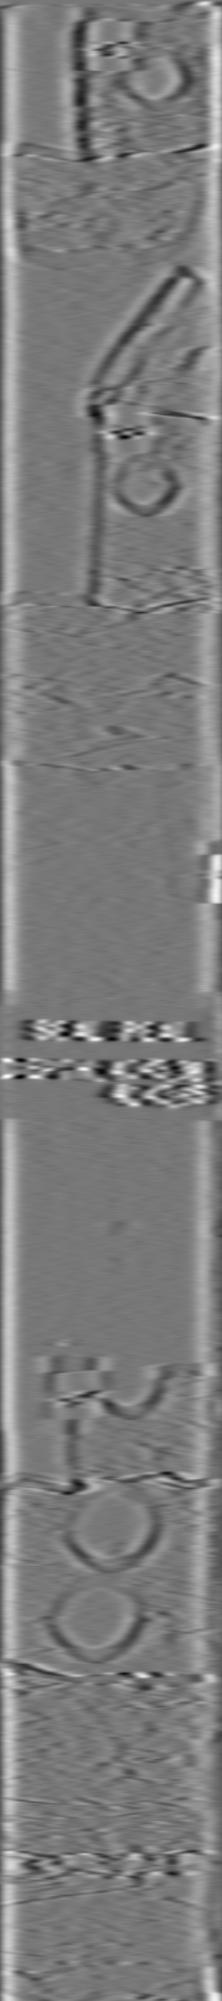hplug: (116, 42, 193, 115), (108, 452, 179, 517), (97, 1377, 167, 1423)
scal: (61, 1485, 161, 1577), (43, 1577, 145, 1665)
vplug: (26, 401, 106, 616), (17, 17, 93, 162), (1, 1397, 80, 1494)
